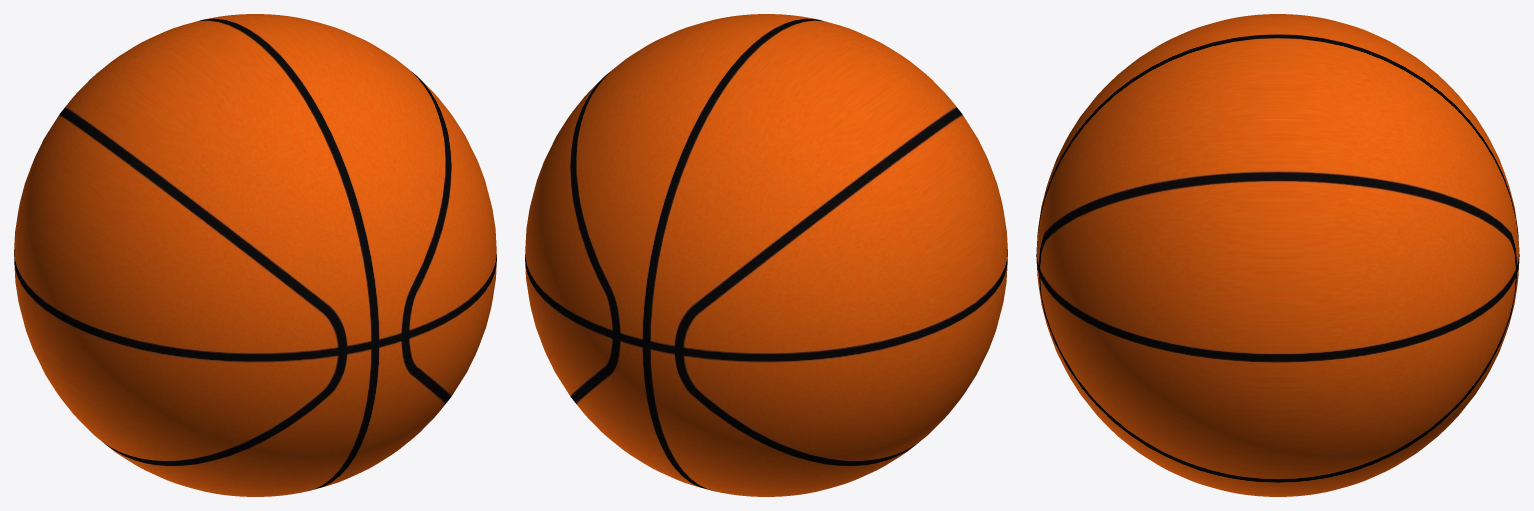
Rendered from classroom_fin_2.fbx.
The picture shows the model from 3 angles, left to right: view 1: azimuth 30°, elevation 25°; view 2: azimuth 150°, elevation 25°; view 3: azimuth 270°, elevation 25°; orthographic projection.
Parts seen in each view (by area): view 1: Sphere; view 2: Sphere; view 3: Sphere.
Part boxes in pixels (x1,y1,x2,y2): Sphere: [14, 14, 496, 496]; Sphere: [525, 14, 1007, 496]; Sphere: [1036, 14, 1519, 496].
Bounding box in the file's own units: 36.74 × 36.74 × 36.74.
1 material, 1 textured.
